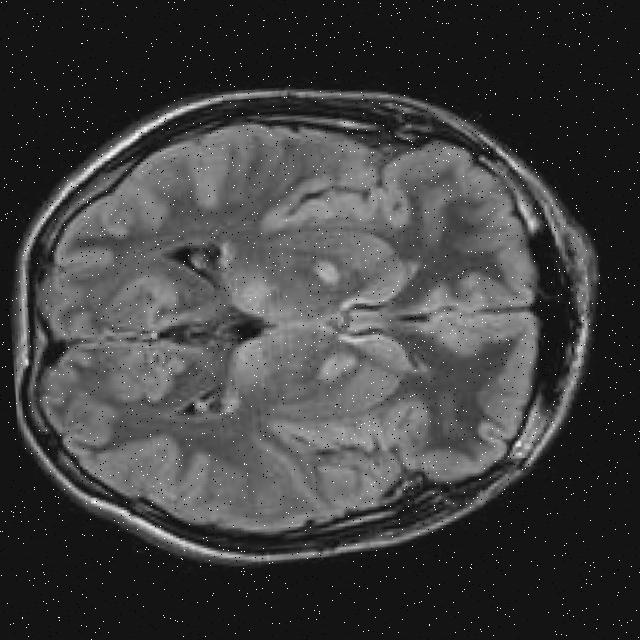NoTumor: (3, 68, 615, 578)
